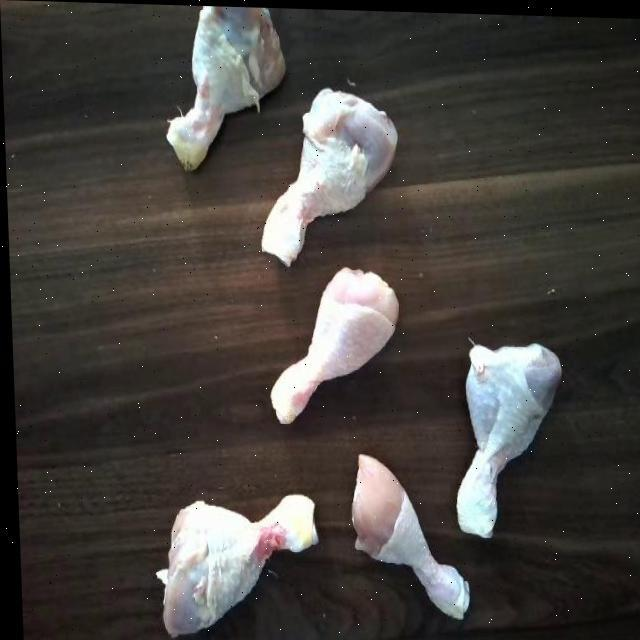leg: (143, 480, 320, 638), (446, 314, 564, 534), (262, 68, 392, 262), (268, 262, 405, 429), (342, 446, 468, 616), (163, 3, 288, 166)
